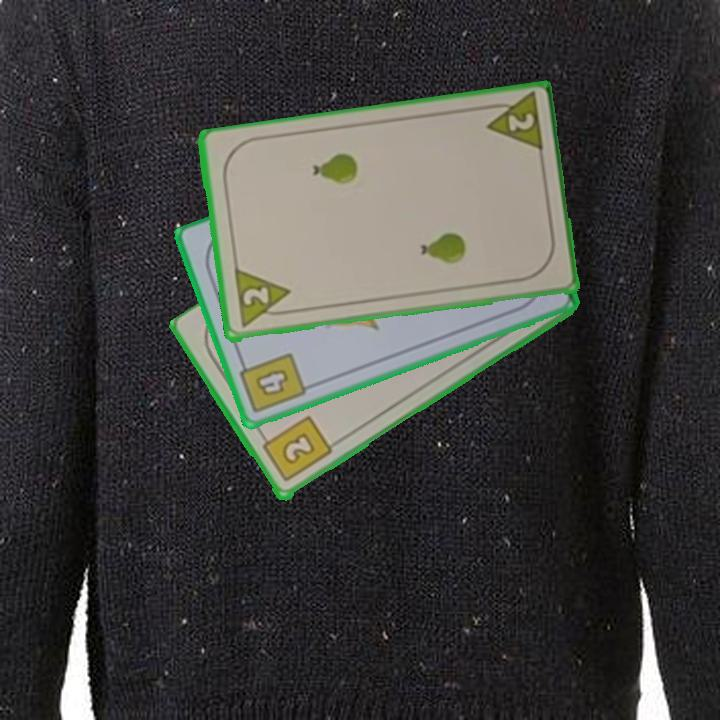2b: (256, 412, 335, 485)
2p: (479, 91, 546, 156), (230, 267, 295, 331)
4b: (235, 349, 309, 417)
